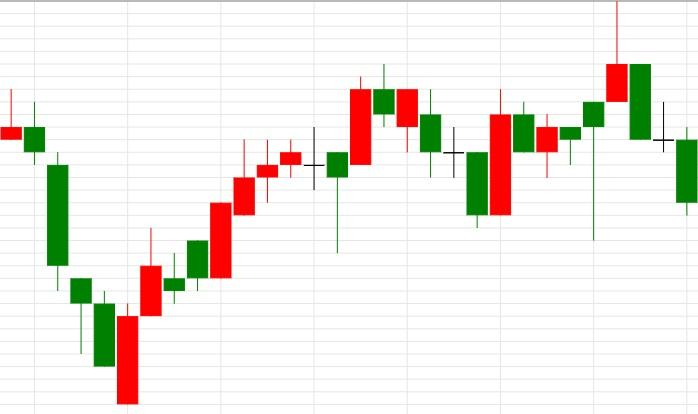hanging_man_fall: (210, 126, 348, 278)
